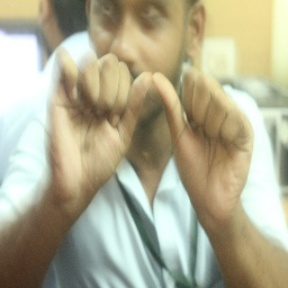A: (66, 47, 237, 180)
